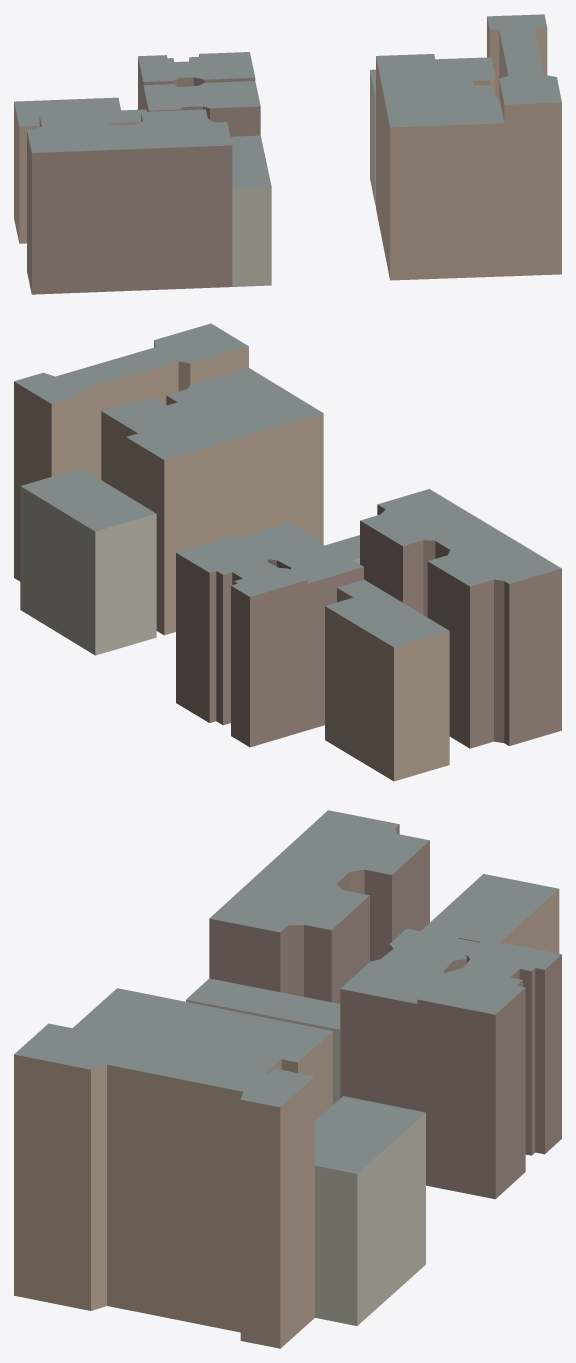
File: context--1--1.gltf
The picture shows the model from 3 angles, top to bottom: view 1: azimuth 30°, elevation 25°; view 2: azimuth 150°, elevation 25°; view 3: azimuth 270°, elevation 25°; orthographic projection. The views are drawn at different scales.
Visible parts, largest first — view 1: context--1--1; view 2: context--1--1; view 3: context--1--1.
Boxes of the visible parts, box(x1,y1,x2,y2) form: context--1--1: box(14, 14, 561, 294); context--1--1: box(14, 323, 561, 781); context--1--1: box(14, 810, 561, 1348).
Size of the model in its own units: 72.21 by 23.91 by 49.22.
